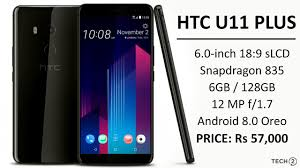htc: (76, 1, 157, 167), (8, 3, 80, 166)
